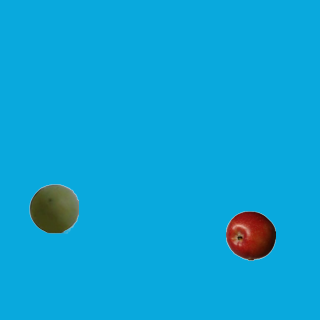Apple Braeburn: (225, 210, 275, 260)
Grape White 4: (28, 183, 78, 233)
